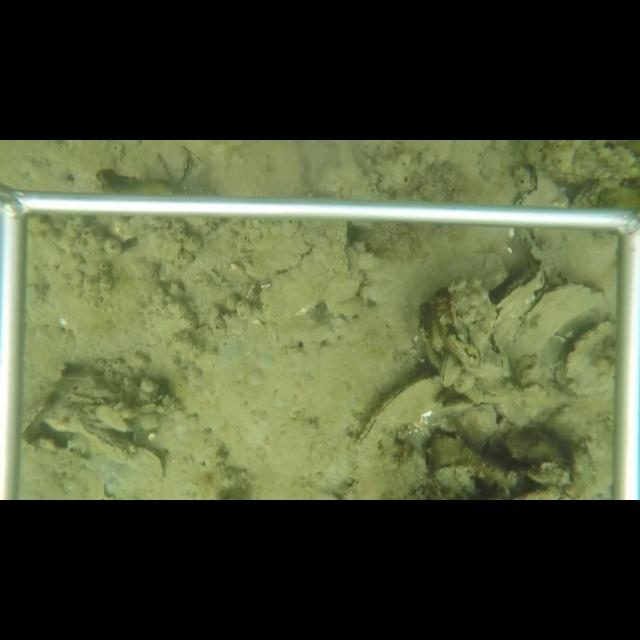Oyster-Closed: (256, 221, 355, 328), (507, 280, 608, 380), (353, 369, 457, 452), (492, 264, 547, 355), (112, 142, 195, 186), (561, 321, 617, 384), (68, 416, 136, 463), (444, 277, 474, 348), (132, 446, 170, 487)
